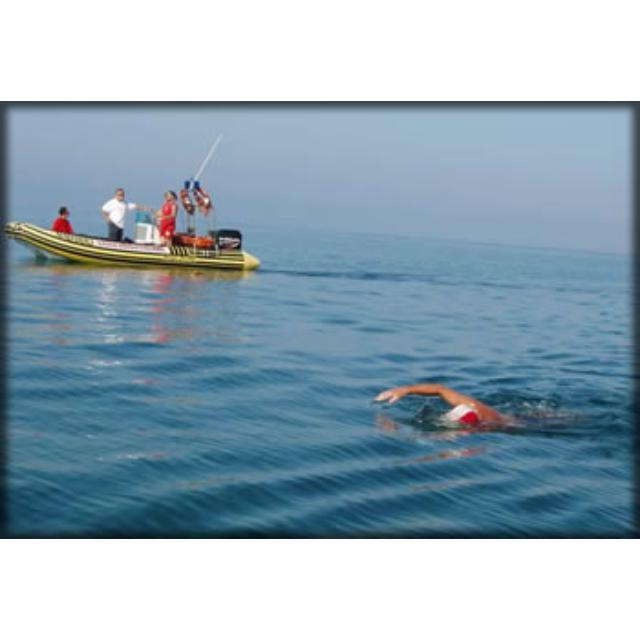human: (373, 383, 526, 432)
